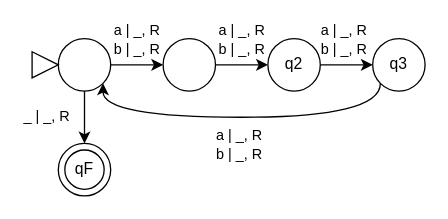
The diagram is 448 pixels wide and 219 high, and some of its shapes have lost their labels. Here are the shapes that lost their labels. From the top down, the box of each, then its label:
(57, 37, 111, 91): q0
(162, 37, 215, 91): q1
